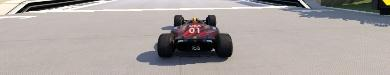Car: (156, 14, 233, 57)
